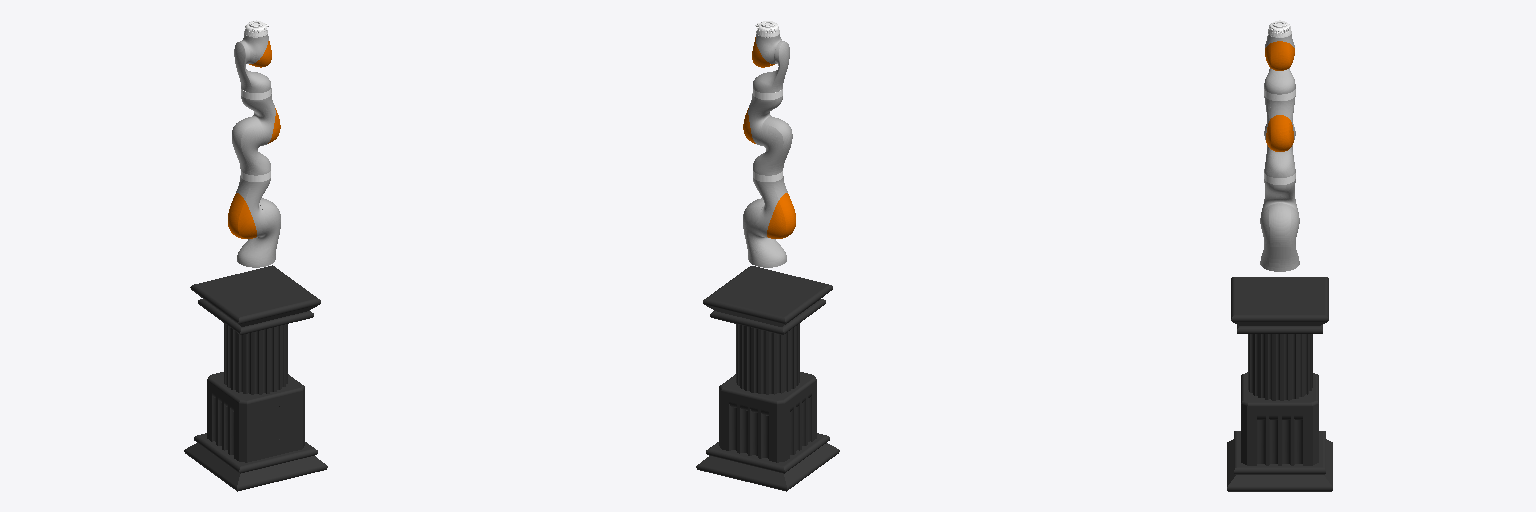
robot.urdf — KUKA_LBR_iiwa:
<?xml version="1.0" ?>
<!-- Generated using onshape-to-robot (Modified: Fastened links separated - WORKING VERSION) -->
<robot name="KUKA_LBR_iiwa">
  
  <!-- ==================== LINK: base ==================== -->
  <link name="base">
    <inertial>
      <mass value="0.0"/>
      <inertia ixx="0" ixy="0" ixz="0" iyy="0" iyz="0" izz="0"/>
    </inertial>
    <visual>
      <origin xyz="0 0 0.618" rpy="0 0 0"/>
      <geometry>
        <mesh filename="package://assets/base.stl"/>
      </geometry>
      <material name="base_material">
        <color rgba="0.75 0.75 0.75 1"/>
      </material>
    </visual>
    <collision>
      <origin xyz="0 0 0.618" rpy="0 0 0"/>
      <geometry>
        <mesh filename="package://assets/base.stl"/>
      </geometry>
    </collision>
  </link>

  <!-- ==================== LINK: pedestal ==================== -->
  <link name="pedestal">
    <inertial>
      <origin xyz="-1.282e-09 -5.24262e-05 0.308242" rpy="0 0 0"/>
      <mass value="85.5892"/>
      <inertia ixx="4.53123" ixy="-2.46387e-07" ixz="-1.00789e-06" iyy="4.52016" iyz="-0.0313027" izz="0.892109"/>
    </inertial>
    <visual>
      <origin xyz="0 0 0.62" rpy="0 0 0"/>
      <geometry>
        <mesh filename="package://assets/pedestal.stl"/>
      </geometry>
      <material name="pedestal_material">
        <color rgba="0.25 0.25 0.25 1"/>
      </material>
    </visual>
    <collision>
      <origin xyz="0 0 0.62" rpy="0 0 0"/>
      <geometry>
        <mesh filename="package://assets/pedestal.stl"/>
      </geometry>
    </collision>
  </link>

  <!-- ==================== LINK: j1 ==================== -->
  <link name="j1">
    <inertial>
      <origin xyz="0.0251572 2.72802e-07 -0.0985614" rpy="0 0 0"/>
      <mass value="4.60977"/>
      <inertia ixx="0.0206874" ixy="-8.3691e-08" ixz="0.00306203" iyy="0.0205054" iyz="6.2555e-08" izz="0.00766358"/>
    </inertial>
    <visual>
      <origin xyz="0 0 0.1475" rpy="3.14159 0 0"/>
      <geometry>
        <mesh filename="package://assets/j1.stl"/>
      </geometry>
      <material name="j1_material">
        <color rgba="0.75 0.75 0.75 1"/>
      </material>
    </visual>
    <collision>
      <origin xyz="0 0 0.1475" rpy="3.14159 0 0"/>
      <geometry>
        <mesh filename="package://assets/j1.stl"/>
      </geometry>
    </collision>
  </link>

  <!-- ==================== LINK: j2_elbow ==================== -->
  <link name="j2_elbow">
    <inertial>
      <mass value="0.0"/>
      <inertia ixx="0" ixy="0" ixz="0" iyy="0" iyz="0" izz="0"/>
    </inertial>
    <visual>
      <origin xyz="-0.000436894 -0.365433 0.00617832" rpy="-1.5708 -1.5708 0"/>
      <geometry>
        <mesh filename="package://assets/j2_elbow.stl"/>
      </geometry>
      <material name="j2_elbow_material">
        <color rgba="1 0.5 0 1"/>
      </material>
    </visual>
    <collision>
      <origin xyz="-0.000436894 -0.365433 0.00617832" rpy="-1.5708 -1.5708 0"/>
      <geometry>
        <mesh filename="package://assets/j2_elbow.stl"/>
      </geometry>
    </collision>
  </link>

  <!-- ==================== LINK: j2 ==================== -->
  <link name="j2">
    <inertial>
      <origin xyz="-4.3248e-07 0.0437753 -0.0387002" rpy="0 0 0"/>
      <mass value="4.43336"/>
      <inertia ixx="0.0190197" ixy="-2.13955e-07" ixz="-2.3559e-08" iyy="0.00684907" iyz="-0.00303824" izz="0.0189104"/>
    </inertial>
    <visual>
      <origin xyz="0 -0.36 -0.01" rpy="-1.5708 -1.5708 0"/>
      <geometry>
        <mesh filename="package://assets/j2.stl"/>
      </geometry>
      <material name="j2_material">
        <color rgba="0.75 0.75 0.75 1"/>
      </material>
    </visual>
    <collision>
      <origin xyz="0 -0.36 -0.01" rpy="-1.5708 -1.5708 0"/>
      <geometry>
        <mesh filename="package://assets/j2.stl"/>
      </geometry>
    </collision>
  </link>

  <!-- ==================== LINK: j3 ==================== -->
  <link name="j3">
    <inertial>
      <mass value="0.0"/>
      <inertia ixx="0" ixy="0" ixz="0" iyy="0" iyz="0" izz="0"/>
    </inertial>
    <visual>
      <origin xyz="0.000191206 0.00086991 0.565491" rpy="3.14159 0 0"/>
      <geometry>
        <mesh filename="package://assets/j3.stl"/>
      </geometry>
      <material name="j3_material">
        <color rgba="0.75 0.75 0.75 1"/>
      </material>
    </visual>
    <collision>
      <origin xyz="0.000191206 0.00086991 0.565491" rpy="3.14159 0 0"/>
      <geometry>
        <mesh filename="package://assets/j3.stl"/>
      </geometry>
    </collision>
  </link>

  <!-- ==================== LINK: j3_base ==================== -->
  <link name="j3_base">
    <inertial>
      <origin xyz="-0.0218857 0.000220362 -0.101607" rpy="0 0 0"/>
      <mass value="3.56266"/>
      <inertia ixx="0.0148039" ixy="7.91072e-06" ixz="-0.00302454" iyy="0.0155916" iyz="3.0418e-05" izz="0.00472762"/>
    </inertial>
    <visual>
      <origin xyz="4.40555e-06 0.000872465 0.5545" rpy="3.14159 0 0"/>
      <geometry>
        <mesh filename="package://assets/j3_base.stl"/>
      </geometry>
      <material name="j3_base_material">
        <color rgba="1 1 1 1"/>
      </material>
    </visual>
    <collision>
      <origin xyz="4.40555e-06 0.000872465 0.5545" rpy="3.14159 0 0"/>
      <geometry>
        <mesh filename="package://assets/j3_base.stl"/>
      </geometry>
    </collision>
  </link>

  <!-- ==================== LINK: j4 ==================== -->
  <link name="j4">
    <inertial>
      <origin xyz="5.32542e-05 0.0501868 -0.0333238" rpy="0 0 0"/>
      <mass value="3.07361"/>
      <inertia ixx="0.010696" ixy="-7.40333e-06" ixz="-1.94771e-06" iyy="0.00381625" iyz="-0.00177027" izz="0.0101929"/>
    </inertial>
    <visual>
      <origin xyz="0.000865672 -0.786735 0.00615927" rpy="-1.5708 1.5607 0"/>
      <geometry>
        <mesh filename="package://assets/j4.stl"/>
      </geometry>
      <material name="j4_material">
        <color rgba="0.75 0.75 0.75 1"/>
      </material>
    </visual>
    <collision>
      <origin xyz="0.000865672 -0.786735 0.00615927" rpy="-1.5708 1.5607 0"/>
      <geometry>
        <mesh filename="package://assets/j4.stl"/>
      </geometry>
    </collision>
  </link>

  <!-- ==================== LINK: j4_elbow ==================== -->
  <link name="j4_elbow">
    <inertial>
      <mass value="0.0"/>
      <inertia ixx="0" ixy="0" ixz="0" iyy="0" iyz="0" izz="0"/>
    </inertial>
    <visual>
      <origin xyz="0.000865211 -0.786736 0.00615955" rpy="-1.5708 1.5607 0"/>
      <geometry>
        <mesh filename="package://assets/j4_elbow.stl"/>
      </geometry>
      <material name="j4_elbow_material">
        <color rgba="1 0.5 0 1"/>
      </material>
    </visual>
    <collision>
      <origin xyz="0.000865211 -0.786736 0.00615955" rpy="-1.5708 1.5607 0"/>
      <geometry>
        <mesh filename="package://assets/j4_elbow.stl"/>
      </geometry>
    </collision>
  </link>

  <!-- ==================== LINK: j5 ==================== -->
  <link name="j5">
    <inertial>
      <mass value="0.0"/>
      <inertia ixx="0" ixy="0" ixz="0" iyy="0" iyz="0" izz="0"/>
    </inertial>
    <visual>
      <origin xyz="-1.04277e-05 -0.00146876 0.965489" rpy="-3.1405 -1.10139e-05 0"/>
      <geometry>
        <mesh filename="package://assets/j5.stl"/>
      </geometry>
      <material name="j5_material">
        <color rgba="0.75 0.75 0.75 1"/>
      </material>
    </visual>
    <collision>
      <origin xyz="-1.04277e-05 -0.00146876 0.965489" rpy="-3.1405 -1.10139e-05 0"/>
      <geometry>
        <mesh filename="package://assets/j5.stl"/>
      </geometry>
    </collision>
  </link>

  <!-- ==================== LINK: j5_base ==================== -->
  <link name="j5_base">
    <inertial>
      <origin xyz="-0.0159162 0.000205027 -0.0636206" rpy="0 0 0"/>
      <mass value="1.90041"/>
      <inertia ixx="0.00541091" ixy="1.13624e-05" ixz="-0.00192155" iyy="0.00626735" iyz="2.45837e-05" izz="0.00277913"/>
    </inertial>
    <visual>
      <origin xyz="-1.29963e-05 -0.0017231 0.954499" rpy="-3.1405 -1.10139e-05 0"/>
      <geometry>
        <mesh filename="package://assets/j5_base.stl"/>
      </geometry>
      <material name="j5_base_material">
        <color rgba="1 1 1 1"/>
      </material>
    </visual>
    <collision>
      <origin xyz="-1.29963e-05 -0.0017231 0.954499" rpy="-3.1405 -1.10139e-05 0"/>
      <geometry>
        <mesh filename="package://assets/j5_base.stl"/>
      </geometry>
    </collision>
  </link>

  <!-- ==================== LINK: j6 ==================== -->
  <link name="j6">
    <inertial>
      <origin xyz="3.86296e-07 0.0111225 -0.0528542" rpy="0 0 0"/>
      <mass value="2.37888"/>
      <inertia ixx="0.00476197" ixy="-3.31443e-07" ixz="-4.9663e-08" iyy="0.00243062" iyz="-0.000155968" izz="0.00463135"/>
    </inertial>
    <visual>
      <origin xyz="-0.000436372 -1.18076 -0.0527884" rpy="-1.5708 1.5607 0"/>
      <geometry>
        <mesh filename="package://assets/j6.stl"/>
      </geometry>
      <material name="j6_material">
        <color rgba="0.75 0.75 0.75 1"/>
      </material>
    </visual>
    <collision>
      <origin xyz="-0.000436372 -1.18076 -0.0527884" rpy="-1.5708 1.5607 0"/>
      <geometry>
        <mesh filename="package://assets/j6.stl"/>
      </geometry>
    </collision>
  </link>

  <!-- ==================== LINK: j6_elbow ==================== -->
  <link name="j6_elbow">
    <inertial>
      <mass value="0.0"/>
      <inertia ixx="0" ixy="0" ixz="0" iyy="0" iyz="0" izz="0"/>
    </inertial>
    <visual>
      <origin xyz="-0.000438397 -1.18076 -0.0527894" rpy="-1.5708 1.5607 0"/>
      <geometry>
        <mesh filename="package://assets/j6_elbow.stl"/>
      </geometry>
      <material name="j6_elbow_material">
        <color rgba="1 0.5 0 1"/>
      </material>
    </visual>
    <collision>
      <origin xyz="-0.000438397 -1.18076 -0.0527894" rpy="-1.5708 1.5607 0"/>
      <geometry>
        <mesh filename="package://assets/j6_elbow.stl"/>
      </geometry>
    </collision>
  </link>

  <!-- ==================== LINK: j7 ==================== -->
  <link name="j7">
    <inertial>
      <mass value="0.0"/>
      <inertia ixx="0" ixy="0" ixz="0" iyy="0" iyz="0" izz="0"/>
    </inertial>
    <visual>
      <origin xyz="-4.40555e-06 -1.19817 -0.0521929" rpy="-1.5708 1.5607 0"/>
      <geometry>
        <mesh filename="package://assets/j7.stl"/>
      </geometry>
      <material name="j7_material">
        <color rgba="1 1 1 1"/>
      </material>
    </visual>
    <collision>
      <origin xyz="-4.40555e-06 -1.19817 -0.0521929" rpy="-1.5708 1.5607 0"/>
      <geometry>
        <mesh filename="package://assets/j7.stl"/>
      </geometry>
    </collision>
  </link>

  <!-- ==================== FIXED JOINTS (all with identity transform) ==================== -->
  
  <joint name="fasten_base_to_pedestal" type="fixed">
    <origin xyz="0 0 0" rpy="0 0 0"/>
    <parent link="pedestal"/>
    <child link="base"/>
  </joint>

  <joint name="fasten_j2_elbow_to_j2" type="fixed">
    <origin xyz="0 0 0" rpy="0 0 0"/>
    <parent link="j2"/>
    <child link="j2_elbow"/>
  </joint>

  <joint name="fasten_j3_to_j3_base" type="fixed">
    <origin xyz="0 0 0" rpy="0 0 0"/>
    <parent link="j3_base"/>
    <child link="j3"/>
  </joint>

  <joint name="fasten_j4_elbow_to_j4" type="fixed">
    <origin xyz="0 0 0" rpy="0 0 0"/>
    <parent link="j4"/>
    <child link="j4_elbow"/>
  </joint>

  <joint name="fasten_j5_to_j5_base" type="fixed">
    <origin xyz="0 0 0" rpy="0 0 0"/>
    <parent link="j5_base"/>
    <child link="j5"/>
  </joint>

  <joint name="fasten_j6_elbow_to_j6" type="fixed">
    <origin xyz="0 0 0" rpy="0 0 0"/>
    <parent link="j6"/>
    <child link="j6_elbow"/>
  </joint>

  <joint name="fasten_j7_to_j6" type="fixed">
    <origin xyz="0 0 0" rpy="0 0 0"/>
    <parent link="j6"/>
    <child link="j7"/>
  </joint>

  <!-- ==================== REVOLUTE JOINTS ==================== -->
  
  <joint name="J1" type="revolute">
    <origin xyz="0 0 0.72831" rpy="3.14159 0 0"/>
    <parent link="pedestal"/>
    <child link="j1"/>
    <axis xyz="0 0 1"/>
    <limit effort="10" velocity="10" lower="-2.96706" upper="2.96706"/>
  </joint>

  <joint name="J2" type="revolute">
    <origin xyz="0.007444 0 -0.158185" rpy="-1.5708 0 -1.5708"/>
    <parent link="j1"/>
    <child link="j2"/>
    <axis xyz="0 0 1"/>
    <limit effort="10" velocity="10" lower="-2.0944" upper="2.0944"/>
  </joint>

  <joint name="J3" type="revolute">
    <origin xyz="0 0.144786 -0.007444" rpy="1.5708 -1.5708 0"/>
    <parent link="j2"/>
    <child link="j3_base"/>
    <axis xyz="0 0 1"/>
    <limit effort="10" velocity="10" lower="-2.96706" upper="2.96706"/>
  </joint>

  <joint name="J4" type="revolute">
    <origin xyz="-0.00767675 7.70322e-05 -0.167862" rpy="-1.5708 0 1.5607"/>
    <parent link="j3_base"/>
    <child link="j4"/>
    <axis xyz="0 0 1"/>
    <limit effort="10" velocity="10" lower="-2.0944" upper="2.0944"/>
  </joint>

  <joint name="J5" type="revolute">
    <origin xyz="0.000141668 0.129898 -0.0078162" rpy="1.5708 1.5607 -0.00109061"/>
    <parent link="j4"/>
    <child link="j5_base"/>
    <axis xyz="0 0 1"/>
    <limit effort="10" velocity="10" lower="-2.96706" upper="2.96706"/>
  </joint>

  <joint name="J6" type="revolute">
    <origin xyz="-0.0526245 0.000720817 -0.167862" rpy="-1.5708 -0.00109061 1.5607"/>
    <parent link="j5_base"/>
    <child link="j6"/>
    <axis xyz="0 0 1"/>
    <limit effort="10" velocity="10" lower="-2.0944" upper="2.0944"/>
  </joint>

<!-- Add this section after your joints, before the closing </robot> tag -->
  
  <!-- ==================== DISABLE COLLISIONS ==================== -->
  <!-- Prevent pedestal from colliding with moving joints -->
  <disable_collisions link1="pedestal" link2="j1"/>
  <disable_collisions link1="pedestal" link2="j2"/>
  <disable_collisions link1="pedestal" link2="j2_elbow"/>
  <disable_collisions link1="pedestal" link2="j3_base"/>
  <disable_collisions link1="pedestal" link2="j3"/>
  <disable_collisions link1="pedestal" link2="j4"/>
  <disable_collisions link1="pedestal" link2="j4_elbow"/>
  <disable_collisions link1="pedestal" link2="j5_base"/>
  <disable_collisions link1="pedestal" link2="j5"/>
  <disable_collisions link1="pedestal" link2="j6"/>
  <disable_collisions link1="pedestal" link2="j6_elbow"/>
  <disable_collisions link1="pedestal" link2="j7"/>

  <!-- Also disable base collisions if needed -->
  <disable_collisions link1="base" link2="j1"/>
  <disable_collisions link1="base" link2="j2"/>
  <!-- ... add more as needed -->

</robot>

--- Facts derived from the render (not from the file) ---
3 views of the same robot in one strip: view 1: azimuth 30°, elevation 25°; view 2: azimuth 150°, elevation 25°; view 3: azimuth 270°, elevation 25° (orthographic).
Robot: KUKA_LBR_iiwa — 14 links, 13 joints (6 revolute, 7 fixed); root link pedestal; default pose: all joints at 0.
Links seen in each view (by area): view 1: pedestal, j1, j3, j5, j2_elbow, j2, j4; view 2: pedestal, j1, j3, j5, j2, j2_elbow, j4; view 3: pedestal, j1, j4_elbow, j3, j6_elbow, j2, j5, j4.
Boxes of the visible links, x1,y1,x2,y2 form: pedestal: [184, 265, 327, 491]; j1: [237, 198, 280, 267]; j3: [232, 116, 270, 175]; j5: [234, 41, 270, 92]; j2_elbow: [228, 193, 256, 238]; j2: [236, 175, 270, 237]; j4: [241, 93, 275, 145]; pedestal: [696, 266, 839, 491]; j1: [743, 198, 786, 267]; j3: [753, 117, 792, 175]; j5: [753, 41, 789, 92]; j2: [753, 176, 787, 237]; j2_elbow: [767, 193, 795, 238]; j4: [748, 93, 782, 145]; pedestal: [1227, 277, 1332, 491]; j1: [1260, 203, 1299, 271]; j4_elbow: [1266, 115, 1293, 151]; j3: [1264, 124, 1295, 177]; j6_elbow: [1265, 41, 1294, 70]; j2: [1260, 179, 1299, 218]; j5: [1264, 68, 1295, 94]; j4: [1264, 96, 1295, 139].
Bounding box of the posed robot: 0.3446 × 0.3446 × 1.59 m (x, y, z).
13 mesh visuals loaded from 14 distinct referenced files (13 binary STL); not drawn: 1 (reference not matched to a file when rendering).
